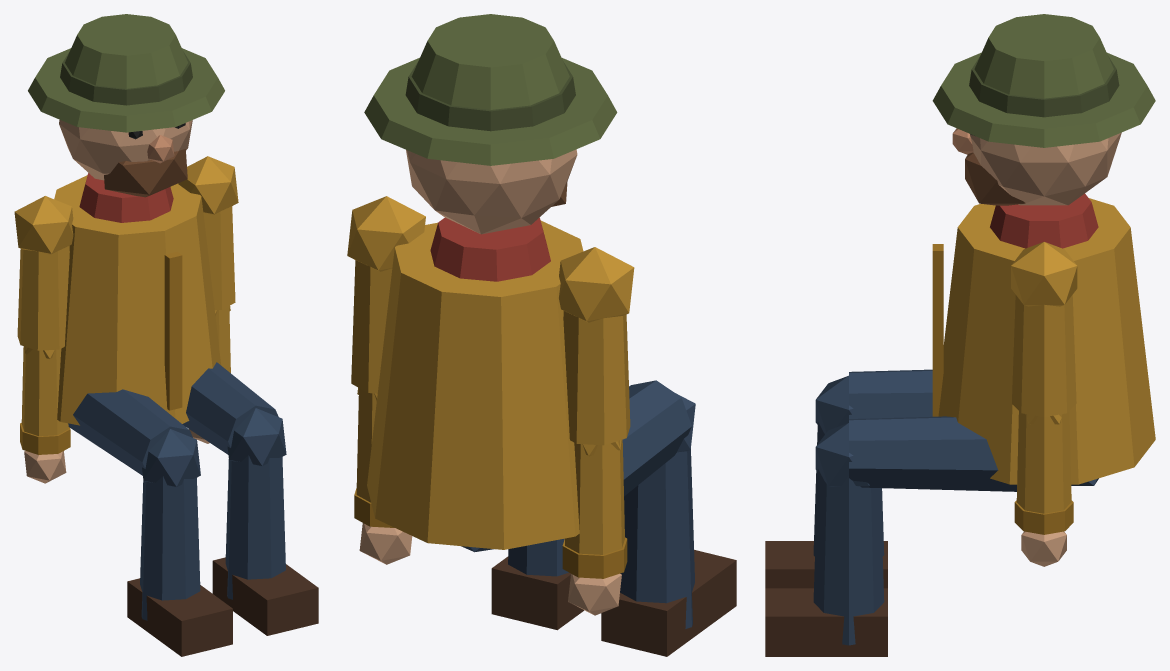
Rendered from fisher.glb.
3 views of the same model, side by side, from view 1: azimuth 30°, elevation 25°; view 2: azimuth 150°, elevation 25°; view 3: azimuth 270°, elevation 25° (orthographic). The views are drawn at different scales.
Parts seen in each view (by area): view 1: fisher, fisher_torso, fisher_head, fisher_arm_r, fisher_forearm_r, fisher_arm_l, fisher_forearm_l; view 2: fisher_torso, fisher_head, fisher, fisher_arm_r, fisher_forearm_r, fisher_arm_l, fisher_forearm_l; view 3: fisher_torso, fisher, fisher_head, fisher_arm_l, fisher_forearm_l.
Boxes of the visible parts, x1=… form: fisher: x1=68, y1=362, x2=318, y2=656; fisher_torso: x1=54, y1=173, x2=221, y2=425; fisher_head: x1=28, y1=14, x2=224, y2=197; fisher_arm_r: x1=14, y1=196, x2=73, y2=350; fisher_forearm_r: x1=20, y1=346, x2=70, y2=483; fisher_arm_l: x1=178, y1=156, x2=238, y2=310; fisher_forearm_l: x1=189, y1=306, x2=230, y2=443; fisher_torso: x1=367, y1=217, x2=583, y2=549; fisher_head: x1=364, y1=14, x2=617, y2=234; fisher: x1=461, y1=380, x2=736, y2=656; fisher_arm_r: x1=559, y1=247, x2=634, y2=445; fisher_forearm_r: x1=562, y1=439, x2=627, y2=615; fisher_arm_l: x1=347, y1=196, x2=425, y2=393; fisher_forearm_l: x1=354, y1=387, x2=412, y2=564; fisher_torso: x1=932, y1=193, x2=1155, y2=484; fisher: x1=765, y1=369, x2=1098, y2=656; fisher_head: x1=932, y1=14, x2=1155, y2=205; fisher_arm_l: x1=1011, y1=242, x2=1077, y2=417; fisher_forearm_l: x1=1014, y1=411, x2=1073, y2=566.
Bounding box in the file's own units: 0.5052 × 1.15 × 0.7.
